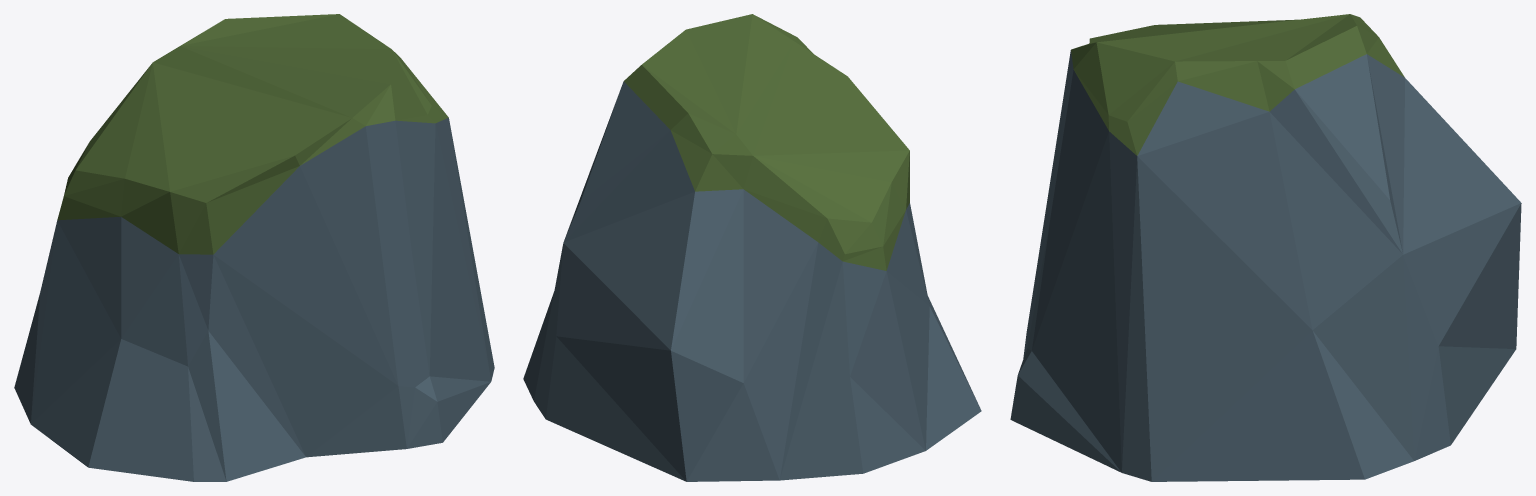
Rendered from Rock_2_2 Asia.fbx.
The picture shows the model from 3 angles, left to right: view 1: azimuth 30°, elevation 25°; view 2: azimuth 150°, elevation 25°; view 3: azimuth 270°, elevation 25°; orthographic projection. The views are drawn at different scales.
Parts seen in each view (by area): view 1: Rock_2_2; view 2: Rock_2_2; view 3: Rock_2_2.
Part boxes in pixels (x1=…): Rock_2_2: x1=14, y1=14, x2=494, y2=481; Rock_2_2: x1=523, y1=14, x2=981, y2=481; Rock_2_2: x1=1010, y1=14, x2=1521, y2=481.
Bounding box in the file's own units: 5.14 × 4.12 × 5.08.
